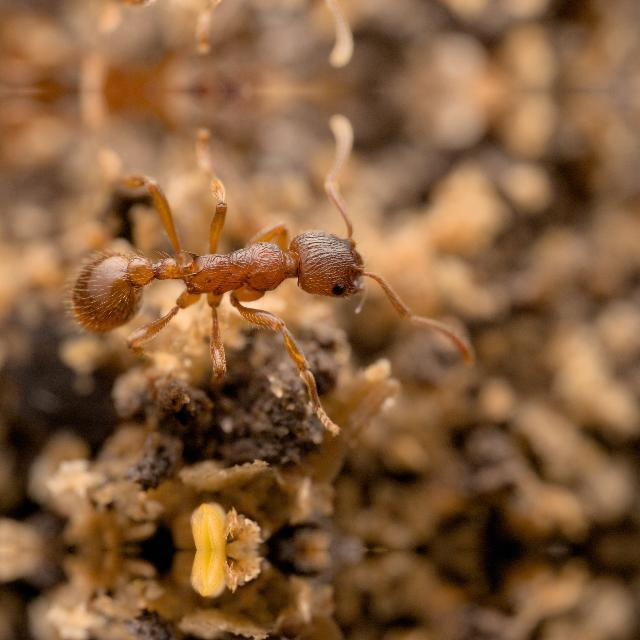Myrmica: (42, 188, 406, 360)
